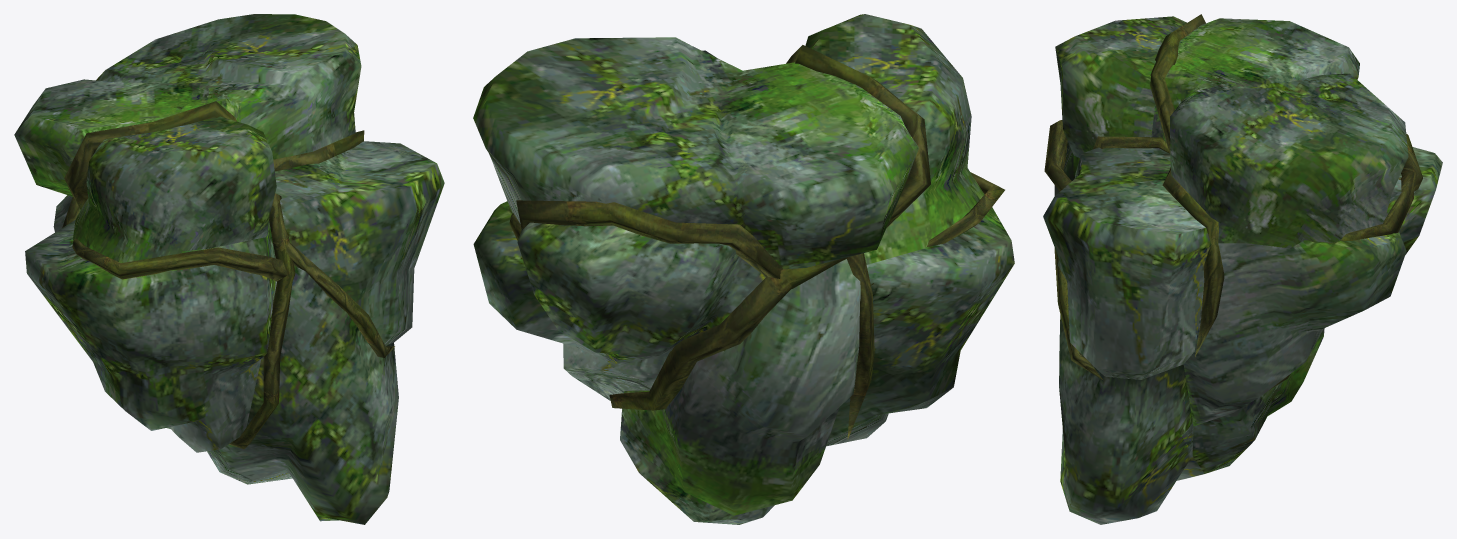
File: environment_Building_bangpai_001_b.FBX
3 views of the same model, side by side, from view 1: azimuth 30°, elevation 25°; view 2: azimuth 150°, elevation 25°; view 3: azimuth 270°, elevation 25° (orthographic). The views are drawn at different scales.
Visible parts, largest first — view 1: environment_Building_bangpai_001_b03, environment_Building_bangpai_001_b02, environment_Building_bangpai_001_b01; view 2: environment_Building_bangpai_001_b03, environment_Building_bangpai_001_b02, environment_Building_bangpai_001_b01; view 3: environment_Building_bangpai_001_b03, environment_Building_bangpai_001_b02, environment_Building_bangpai_001_b01.
Part boxes in pixels (box(x1,y1,x2,y2)): environment_Building_bangpai_001_b03: box(25, 141, 444, 524); environment_Building_bangpai_001_b02: box(14, 14, 361, 271); environment_Building_bangpai_001_b01: box(62, 101, 394, 449); environment_Building_bangpai_001_b03: box(473, 50, 1014, 524); environment_Building_bangpai_001_b02: box(473, 14, 984, 269); environment_Building_bangpai_001_b01: box(509, 45, 1004, 439); environment_Building_bangpai_001_b03: box(1043, 141, 1442, 524); environment_Building_bangpai_001_b02: box(1055, 16, 1408, 248); environment_Building_bangpai_001_b01: box(1044, 14, 1422, 389).
Bounding box in the file's own units: 1012 × 957 × 1111.
